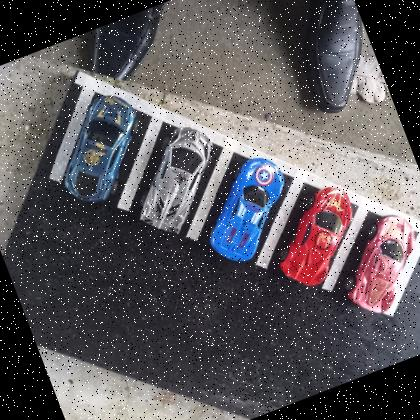Car: (115, 119, 239, 245), (39, 88, 161, 212), (186, 150, 308, 271), (260, 181, 376, 295), (326, 208, 420, 321)
